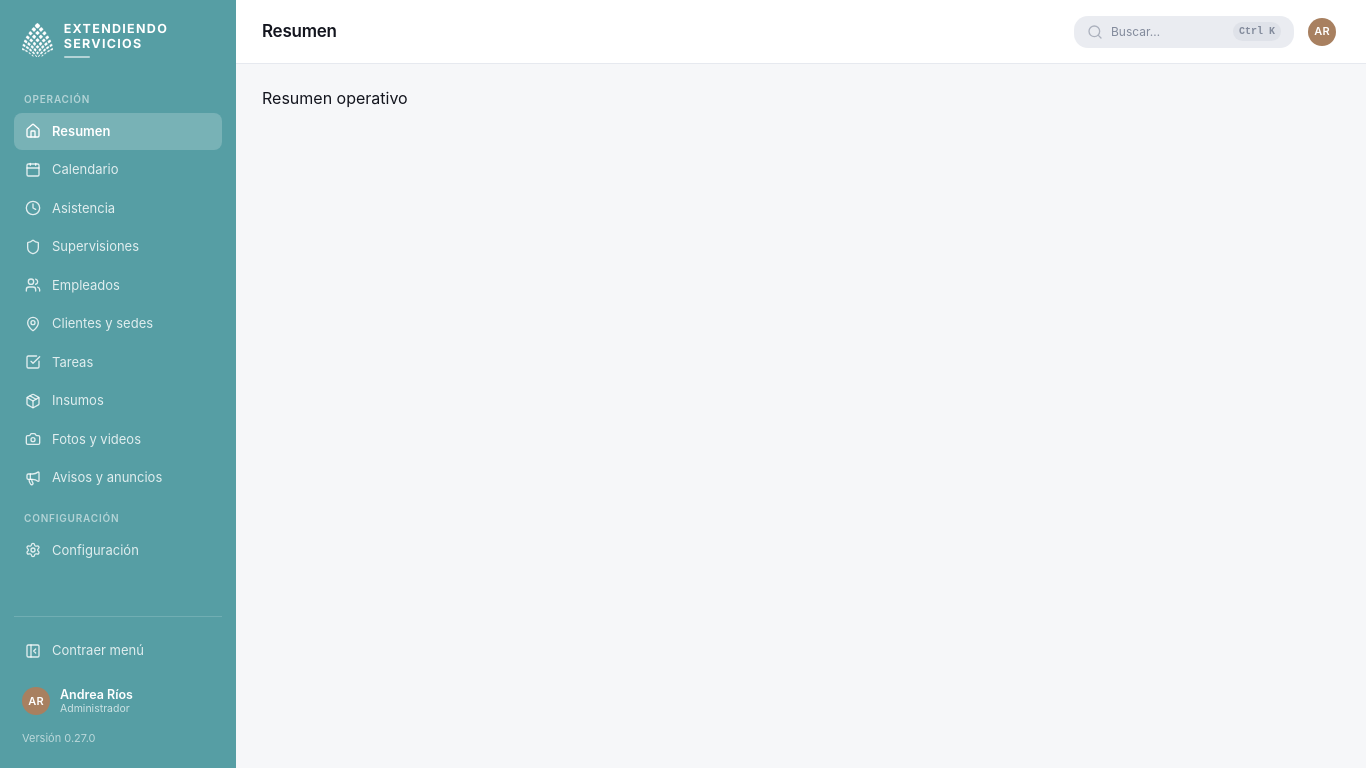
it: AdminShell — botón para fijar el menú (AJ3-07) › si el almacenamiento falla, no se rompe y la barra se puede contraer igual
The image size is (1366, 768).
Expected: the text "Operación" is shown, [24,92,90,104]
Click the button "Contraer menú": (118, 651) [14,629,222,673]
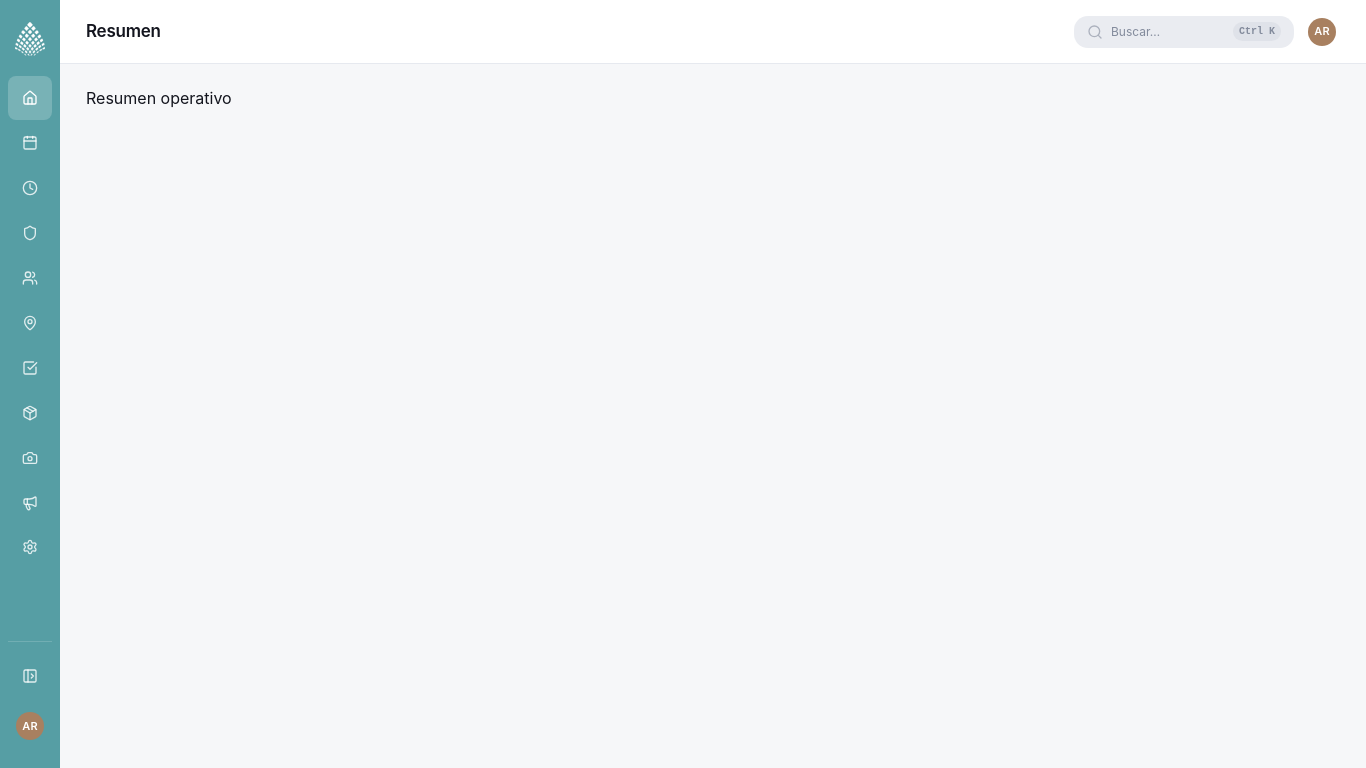
Expected: the text "Operación" is gone
